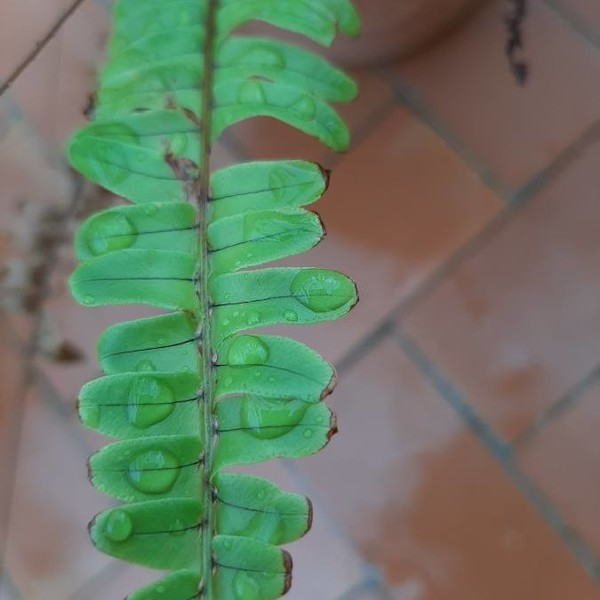obstacle: (75, 13, 354, 585)
